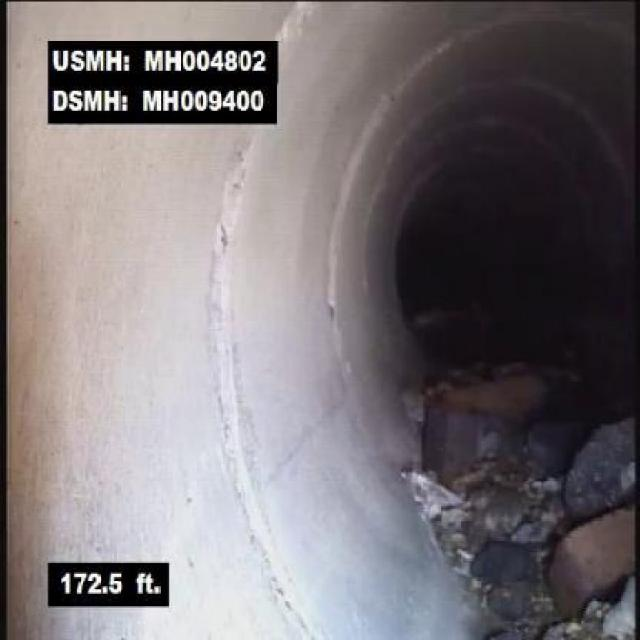Obstacle: (418, 358, 638, 638)
